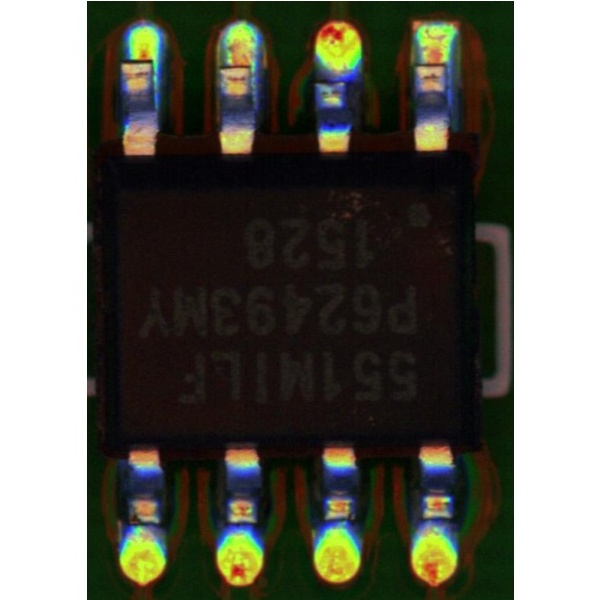Bad_podu: (418, 53, 443, 72), (224, 58, 250, 75), (128, 49, 150, 69)
Bad_qiaojiao: (151, 64, 161, 114), (445, 61, 452, 124), (252, 64, 257, 111)
